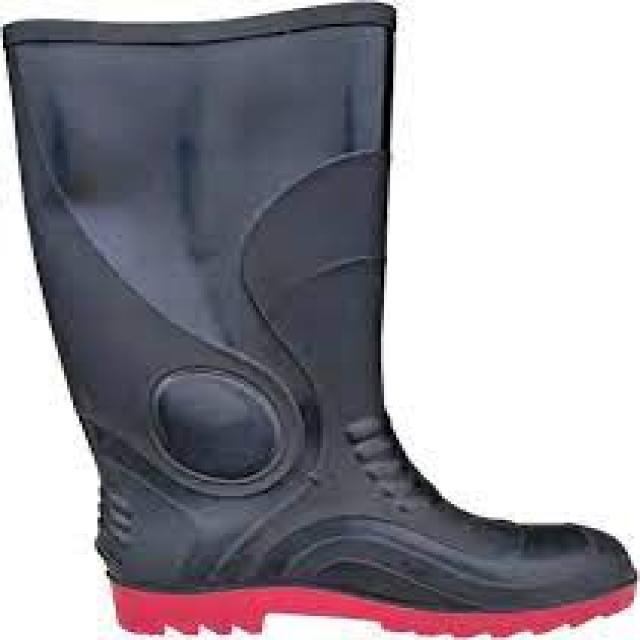shoes: (6, 4, 634, 633)
